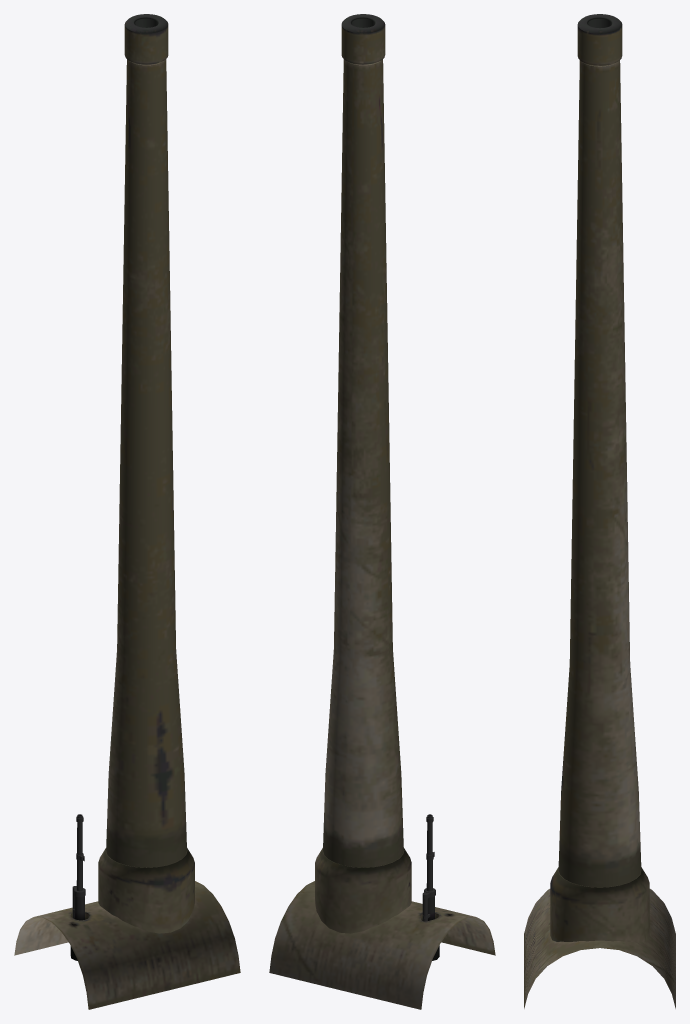
Rendered from Gun_02.glb.
The picture shows the model from 3 angles, left to right: view 1: azimuth 30°, elevation 25°; view 2: azimuth 150°, elevation 25°; view 3: azimuth 270°, elevation 25°; orthographic projection. The views are drawn at different scales.
Visible parts, largest first — view 1: set_0_group_0; view 2: set_0_group_0; view 3: set_0_group_0.
Boxes of the visible parts, x1,y1,x2,y2 form: set_0_group_0: [14, 14, 240, 1009]; set_0_group_0: [269, 14, 495, 1009]; set_0_group_0: [524, 14, 675, 1008].
Bounding box in the file's own units: 0.64 × 3.77 × 0.5415.
1 material, 1 textured.
